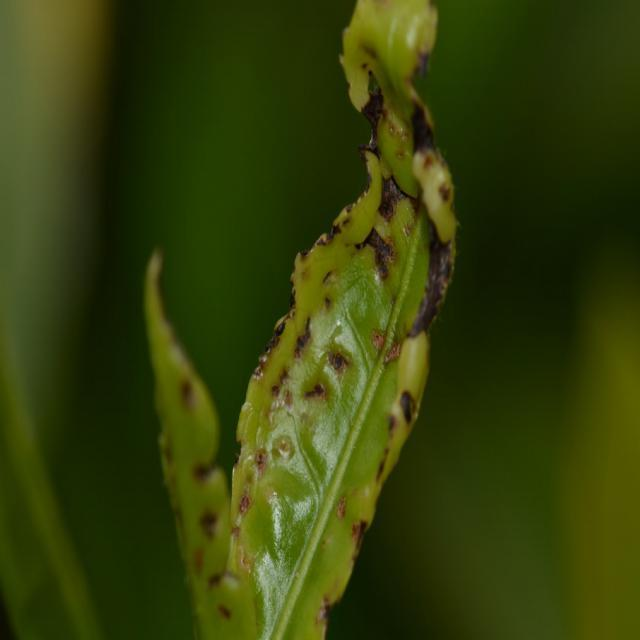Tea red scab: (228, 49, 452, 637)
